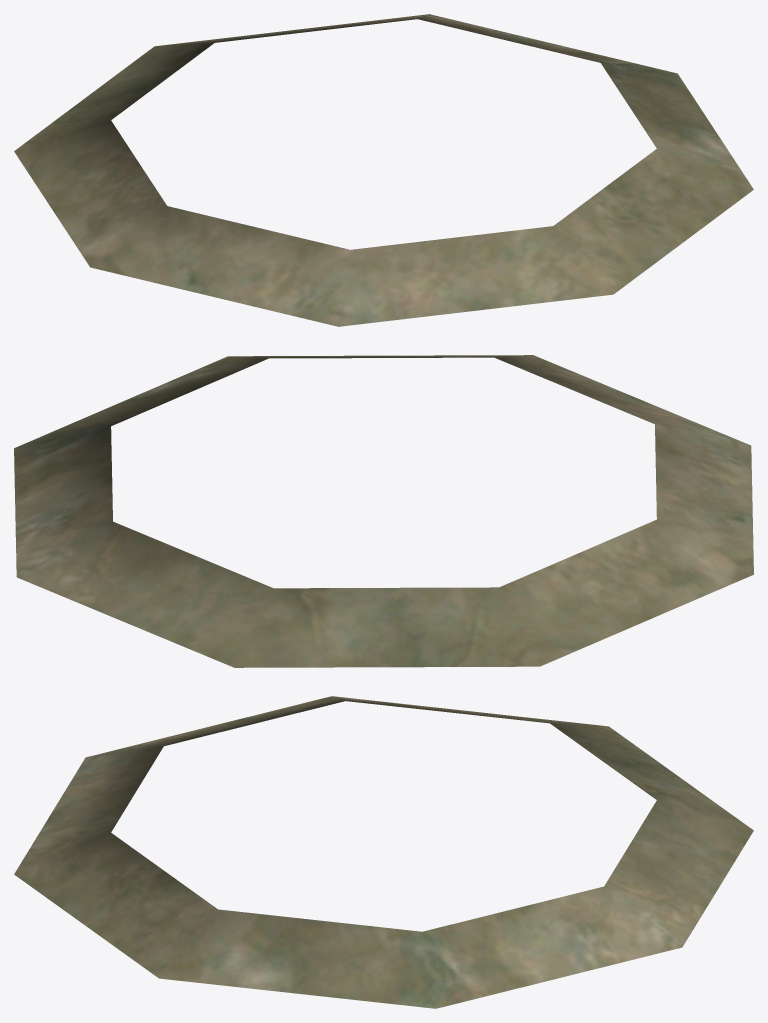
The model's file is EKH_JAIL_PS_JA_PILLER_BLENDER998383.fbx.
The picture shows the model from 3 angles, top to bottom: view 1: azimuth 30°, elevation 25°; view 2: azimuth 150°, elevation 25°; view 3: azimuth 270°, elevation 25°; orthographic projection. The views are drawn at different scales.
Parts seen in each view (by area): view 1: EKH_JAIL_PS_JA_PILLER_BLENDER998383; view 2: EKH_JAIL_PS_JA_PILLER_BLENDER998383; view 3: EKH_JAIL_PS_JA_PILLER_BLENDER998383.
Part boxes in pixels (x1,y1,x2,y2): EKH_JAIL_PS_JA_PILLER_BLENDER998383: (14,14,753,326); EKH_JAIL_PS_JA_PILLER_BLENDER998383: (14,355,753,667); EKH_JAIL_PS_JA_PILLER_BLENDER998383: (14,696,753,1008).
Bounding box in the file's own units: 17288 × 930 × 17288.
Materials: 1 (1 with a texture image).
